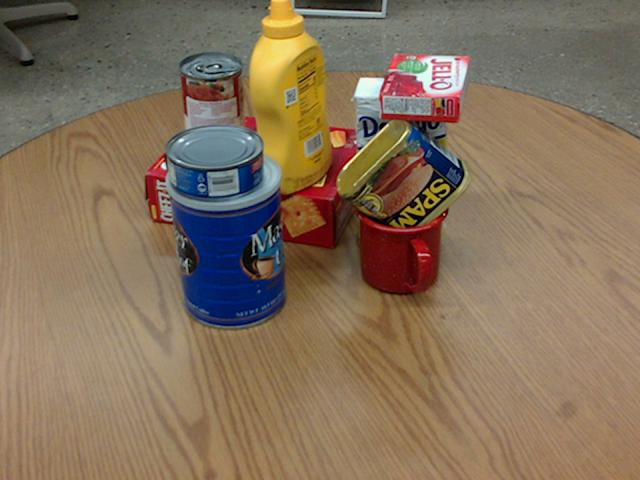cracker_box: (144, 111, 370, 248)
gelatin_box: (379, 53, 469, 121)
large_marker: (165, 150, 194, 258)
master_chef_can: (164, 144, 287, 327)
mug: (355, 183, 451, 295)
mustard_bottle: (250, 0, 331, 193)
potted_meat_can: (335, 114, 471, 245)
sugar_box: (354, 77, 450, 247)
tomato_soup_can: (178, 51, 245, 161)
tuna_fish_can: (164, 122, 263, 199)
